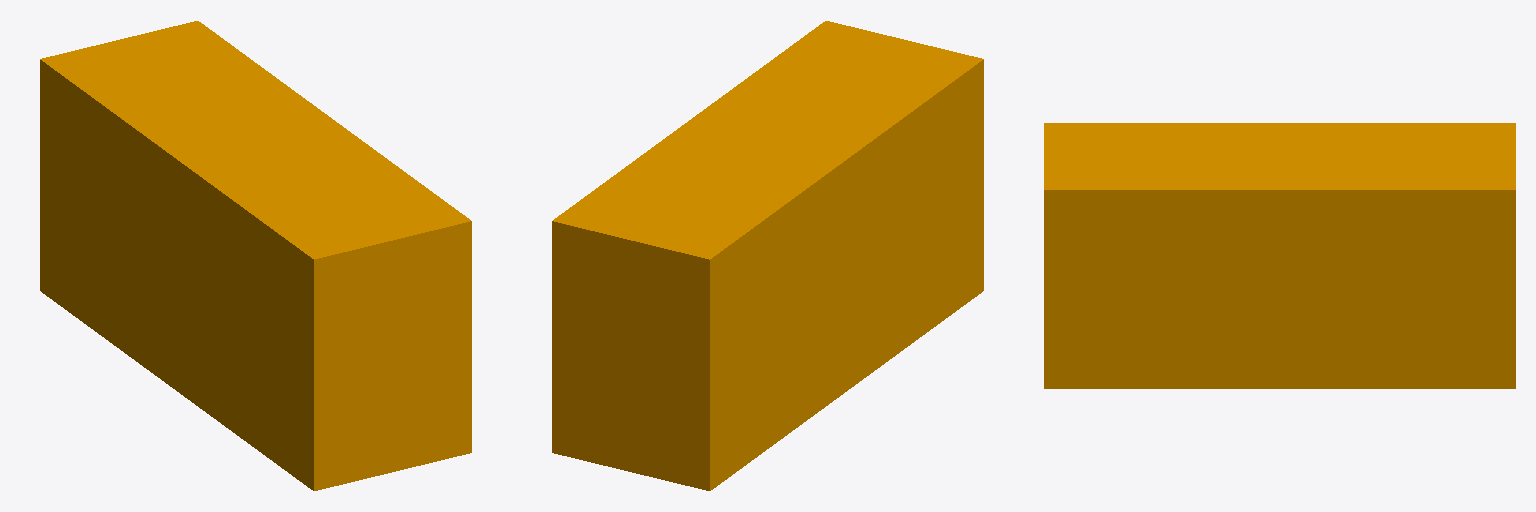
robot.urdf — bin_base:
<?xml version="1.0"?>
<robot name="bin_base">

<link name="base_link">
  <collision>
    <origin xyz="0 0 0" rpy="0 0 0"/>
    <geometry>
      <box size="0.5 1.5 0.7" />
    </geometry>
  </collision>

  <visual>
    <origin xyz="0 0 0" rpy="0 0 0"/>
    <geometry>
      <box size="0.5 1.5 0.7" />
    </geometry>
  </visual>

 <inertial>
    <origin xyz="0 0 0" rpy="0 0 0" />
    <mass value="10.0" />
    <inertia
      ixx="1.0" ixy="0.0"  ixz="0.0"
      iyy="1.0" iyz="0.0"
      izz="1.0" />
  </inertial>
  </link>

<gazebo reference="base_link">
  <material>Gazebo/White</material>
    <mu1>5</mu1>
    <mu2>5</mu2>
</gazebo>

</robot>

--- Render facts (derived) ---
3 views of the same robot in one strip: view 1: azimuth 30°, elevation 25°; view 2: azimuth 150°, elevation 25°; view 3: azimuth 270°, elevation 25° (orthographic).
Model bin_base with 1 links and 0 joints (none), rooted at base_link, posed every joint at zero.
Visible links, largest first — view 1: base_link; view 2: base_link; view 3: base_link.
Link boxes in pixels (left/top/right/bottom): base_link: left=40, top=21, right=471, bottom=490; base_link: left=552, top=21, right=983, bottom=490; base_link: left=1044, top=123, right=1515, bottom=388.
Size in the robot's own frame: 0.5 by 1.5 by 0.7 metres.
Geometry: primitives only (box / cylinder / sphere), no mesh files.
